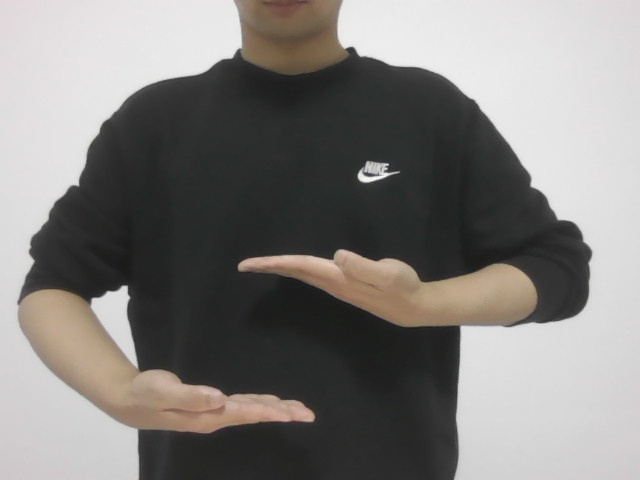happy: (127, 238, 426, 440)
